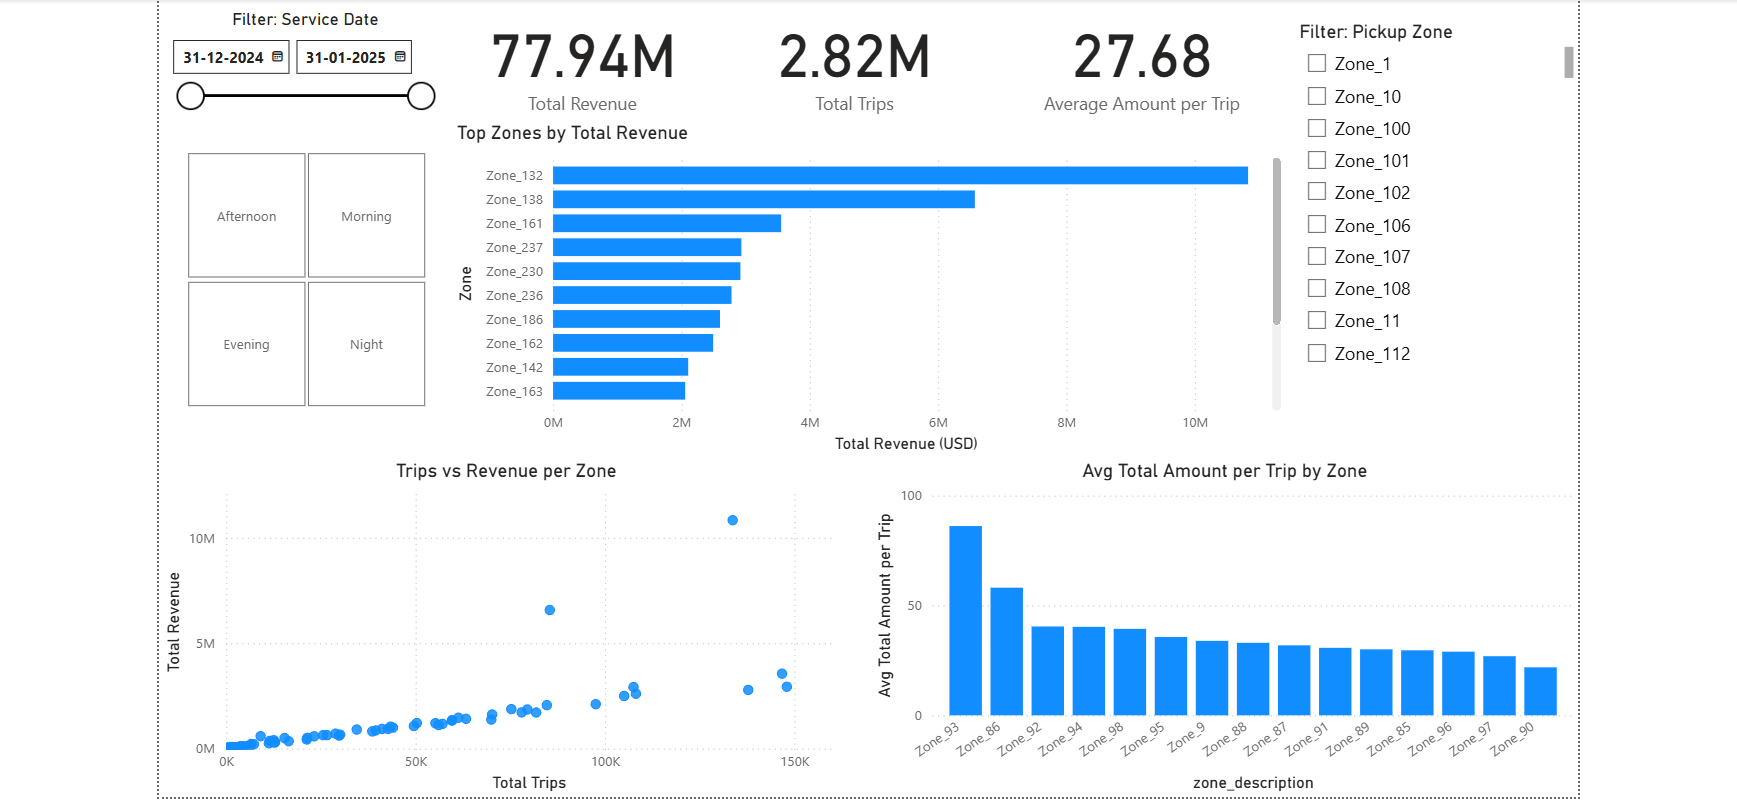

What the dashboard file says about the page in this screenshot:
{"tool":"powerbi","page":{"name":" Revenue & Profitability","canvas":[1280,720],"ordinal":1},"visuals":[{"type":"slicer","title":"Filter: Service Date","fields":{"Values":["dim_date.calendar_date"]},"box":[0,8.8,264.2,110.9],"z":0},{"type":"slicer","title":"Filter: Pickup Zone","fields":{"Values":["dim_zone.zone_description"]},"box":[1023.4,19,256.9,315.3],"z":1000},{"type":"slicer","title":"Part of Day","fields":{"Values":["dim_time.part_of_day"]},"box":[0,131.4,264.2,242.3],"z":2000},{"type":"card","fields":{"Values":["gold_zone_hour_metrics.Total Revenue"]},"box":[263.7,0,236.4,110.7],"z":3000},{"type":"card","fields":{"Values":["gold_zone_hour_metrics.Total Trips"]},"box":[500.1,0,253.8,110.7],"z":4000},{"type":"card","fields":{"Values":["gold_zone_hour_metrics.Avg Total Amount per Trip"]},"box":[753.8,0,265,110.7],"z":5000},{"type":"clusteredBarChart","title":"Top Zones by Total Revenue","fields":{"Category":["dim_zone.zone_description"],"Y":["gold_zone_hour_metrics.Total Revenue"]},"box":[264.2,110.9,753.3,303.7],"z":6000},{"type":"scatterChart","title":"Trips vs Revenue per Zone","fields":{"Y":["gold_zone_hour_metrics.Total Revenue"],"X":["gold_zone_hour_metrics.Total Trips"],"Category":["dim_zone.zone_description"]},"box":[0,414.6,626.3,305.1],"z":7000},{"type":"clusteredColumnChart","title":"Avg Total Amount per Trip by Zone","fields":{"Category":["dim_zone.zone_description"],"Y":["gold_zone_hour_metrics.Avg Total Amount per Trip"]},"box":[640.9,414.6,639.4,305.1],"z":8000}]}

Visuals, with their boxes on the page's 1280x720 design canvas (x1, y1, x2, y2). These are canvas units, not pixel positions in the 1737x802 screenshot, which may show the page scaled, cropped or inside an application window:
"Filter: Service Date" slicer: (0, 9, 264, 120)
"Filter: Pickup Zone" slicer: (1023, 19, 1280, 334)
"Part of Day" slicer: (0, 131, 264, 374)
card - gold_zone_hour_metrics.Total Revenue: (264, 0, 500, 111)
card - gold_zone_hour_metrics.Total Trips: (500, 0, 754, 111)
card - gold_zone_hour_metrics.Avg Total Amount per Trip: (754, 0, 1019, 111)
"Top Zones by Total Revenue" clusteredBarChart: (264, 111, 1018, 415)
"Trips vs Revenue per Zone" scatterChart: (0, 415, 626, 720)
"Avg Total Amount per Trip by Zone" clusteredColumnChart: (641, 415, 1280, 720)
